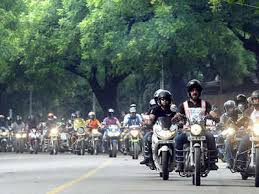helmet: (185, 79, 204, 100), (158, 91, 175, 109)
